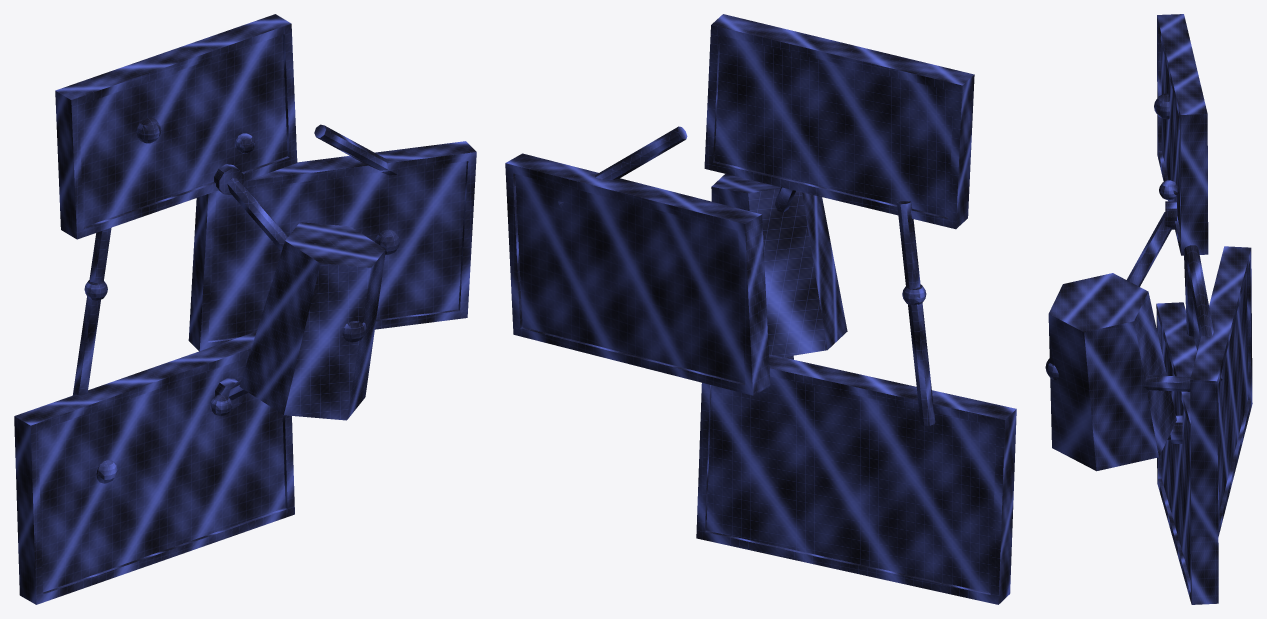
Rendered from Signal_Display_Totem.glb.
The picture shows the model from 3 angles, left to right: view 1: azimuth 30°, elevation 25°; view 2: azimuth 150°, elevation 25°; view 3: azimuth 270°, elevation 25°; orthographic projection. The views are drawn at different scales.
Visible parts, largest first — view 1: Signal_Display_Totem; view 2: Signal_Display_Totem; view 3: Signal_Display_Totem.
Part boxes in pixels (<box>): Signal_Display_Totem: <box>14,14,476,604</box>; Signal_Display_Totem: <box>505,14,1016,604</box>; Signal_Display_Totem: <box>1045,14,1252,604</box>.
Bounding box in the file's own units: 1.93 × 2 × 0.7573.
1 material, 1 textured.
